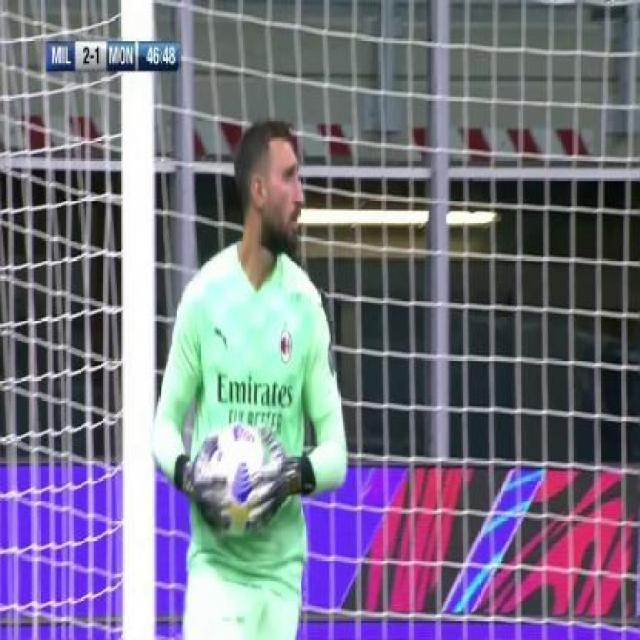ball: (205, 403, 284, 546)
player: (153, 107, 356, 640)
